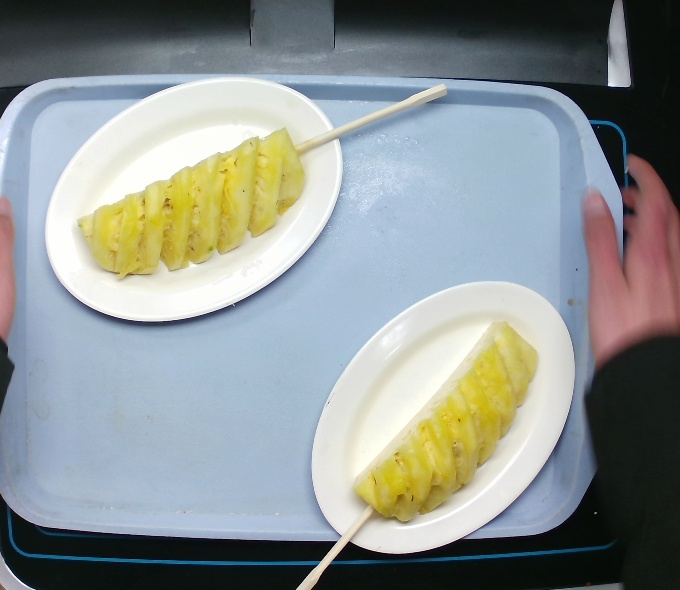wcq-BoLuo: (67, 112, 311, 298), (349, 309, 553, 525)
